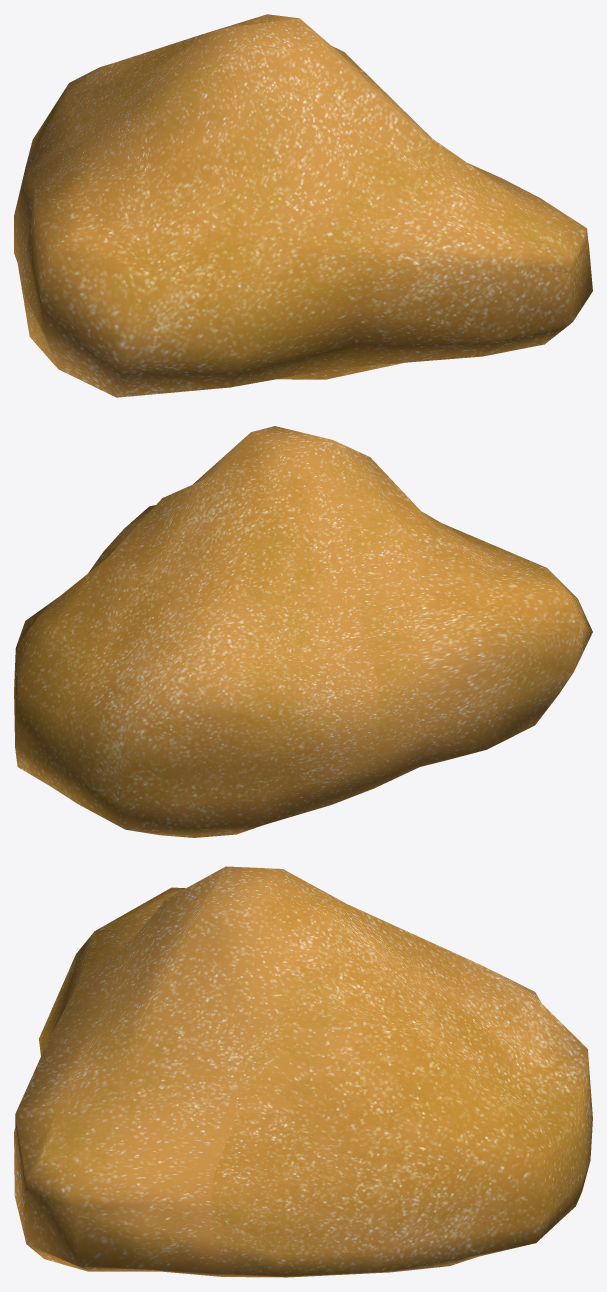
The model's file is Carnalita.fbx.
3 renders of one model, top to bottom at view 1: azimuth 30°, elevation 25°; view 2: azimuth 150°, elevation 25°; view 3: azimuth 270°, elevation 25°, orthographic. The views are drawn at different scales.
Visible parts, largest first — view 1: Carnalita; view 2: Carnalita; view 3: Carnalita.
Boxes of the visible parts, bbox=[...] form: Carnalita: bbox=[14, 14, 592, 397]; Carnalita: bbox=[14, 426, 592, 837]; Carnalita: bbox=[14, 866, 592, 1277].
Size of the model in its own units: 95.22 by 61.46 by 91.12.
